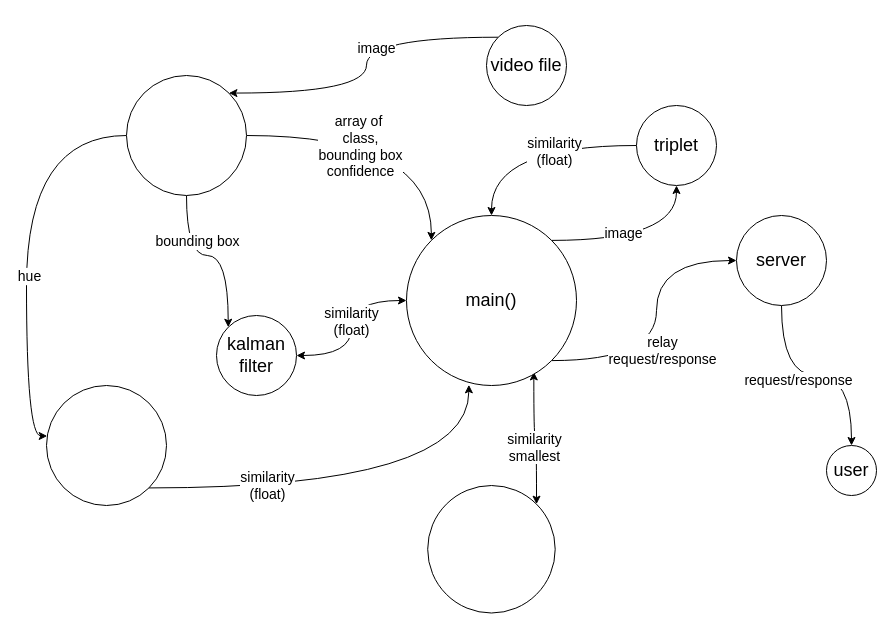
The diagram is 894 pixels wide and 631 high, and some of its shapes have lost their labels. The shapes that lost their labels are listed below. From the top down, each one's box as (x1, y1, x2, y2) in pixels, then its label:
(126, 74, 246, 196): yolo
(46, 384, 166, 506): Bhattacharya Distance
(427, 484, 555, 613): linear assignment problem
